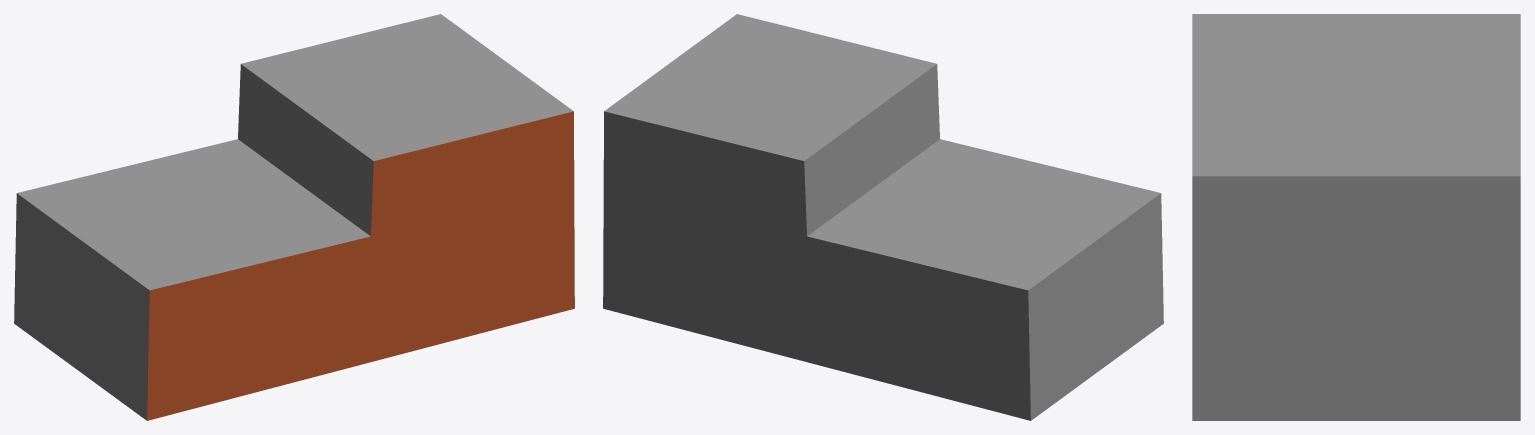
File: construction_4214_assumed_A_Casa_h6m.obj
3 views of the same model, side by side, from view 1: azimuth 30°, elevation 25°; view 2: azimuth 150°, elevation 25°; view 3: azimuth 270°, elevation 25° (orthographic). The views are drawn at different scales.
Visible parts, largest first — view 1: construction_4214_assumed_A_Casa; view 2: construction_4214_assumed_A_Casa; view 3: construction_4214_assumed_A_Casa.
Part boxes in pixels (left/top/right/bottom): construction_4214_assumed_A_Casa: left=14, top=14, right=574, bottom=420; construction_4214_assumed_A_Casa: left=603, top=14, right=1163, bottom=420; construction_4214_assumed_A_Casa: left=1192, top=14, right=1520, bottom=420.
Bounding box in the file's own units: 11.14 × 5.11 × 6.
